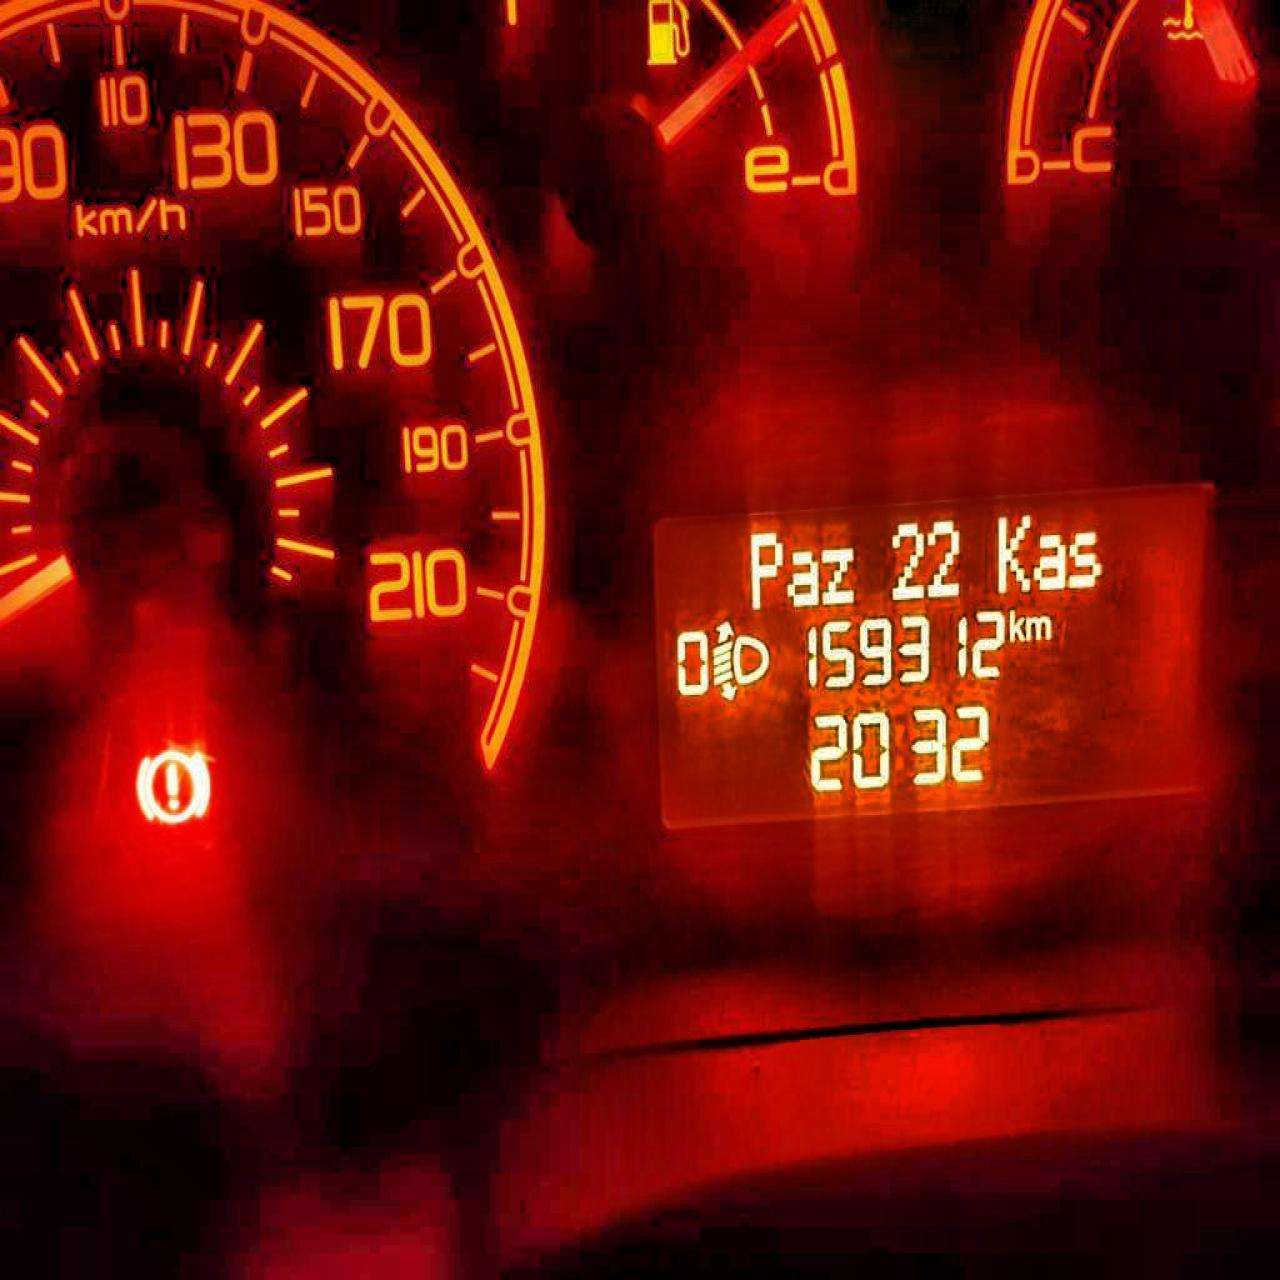0: (850, 710, 890, 790), (674, 628, 710, 696)
1: (803, 624, 818, 687), (953, 613, 968, 676)
2: (947, 703, 992, 782), (808, 712, 847, 794), (924, 517, 961, 597), (888, 518, 925, 600), (971, 608, 1005, 679)
3: (908, 706, 947, 787), (896, 612, 931, 686)
5: (818, 619, 856, 688)
9: (856, 615, 893, 687)
X: (994, 512, 1032, 595), (748, 529, 783, 610), (817, 546, 857, 605), (1065, 529, 1103, 590), (785, 546, 819, 608), (1033, 531, 1067, 592), (1026, 613, 1053, 641), (1006, 607, 1023, 644)
odometer: (646, 478, 1216, 842)
